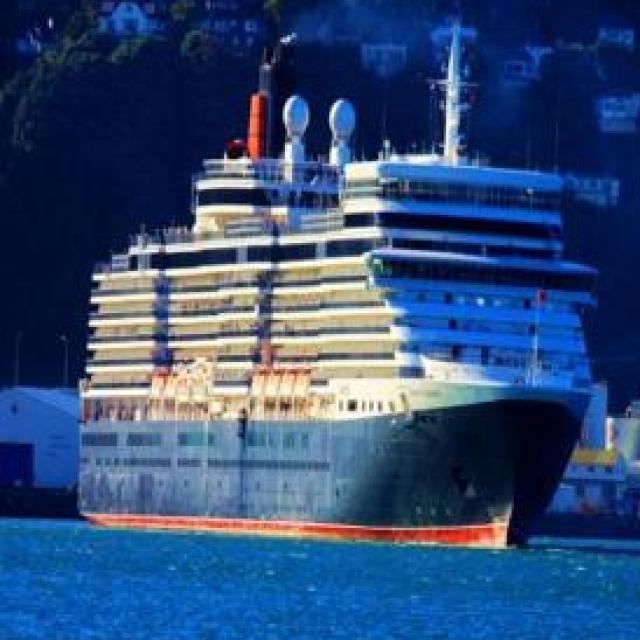passenger ship: (71, 94, 593, 548)
